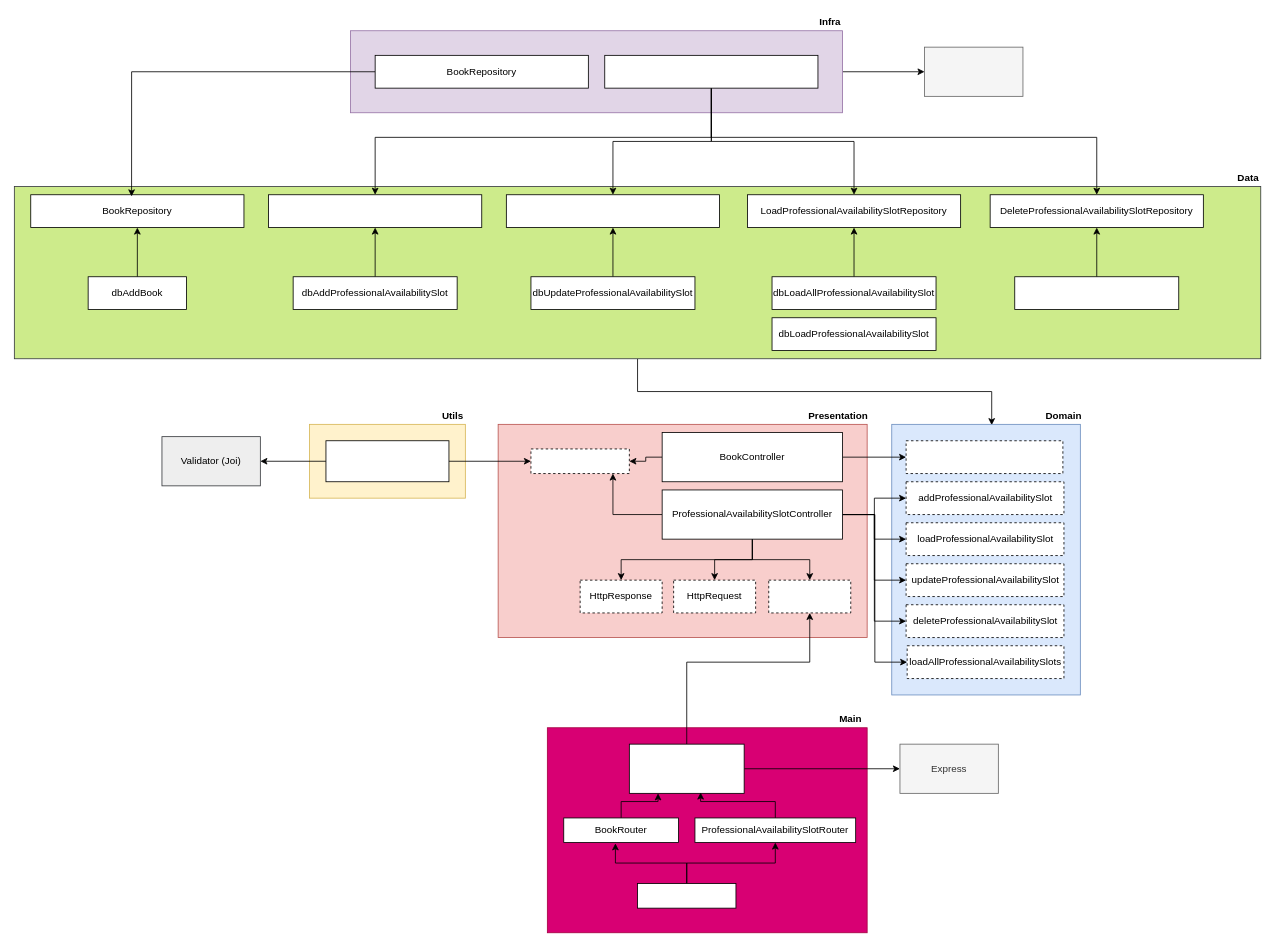
The diagram is 1275 pixels wide and 947 high, and some of its shapes have lost their labels. The centre of each missing label's shape, as x and y in pixels:
"addBook" belongs at point 984,457.
"AddProfessionalAvailabilitySlotRepository" belongs at point 375,211.
"App" belongs at point 686,895.
"Controller" belongs at point 809,596.
"DB" belongs at point 973,71.
"dbDeleteProfessionalAvailabilitySlot" belongs at point 1096,293.
"ExpressRouteAdapter" belongs at point 686,768.
"ProfessionalAvailabilitySlotRepository" belongs at point 711,71.
"RangeValidator" belongs at point 579,461.
"RangeValidatorAdapter" belongs at point 387,461.
"UpdateProfessionalAvailabilitySlotRepository" belongs at point 613,211.
